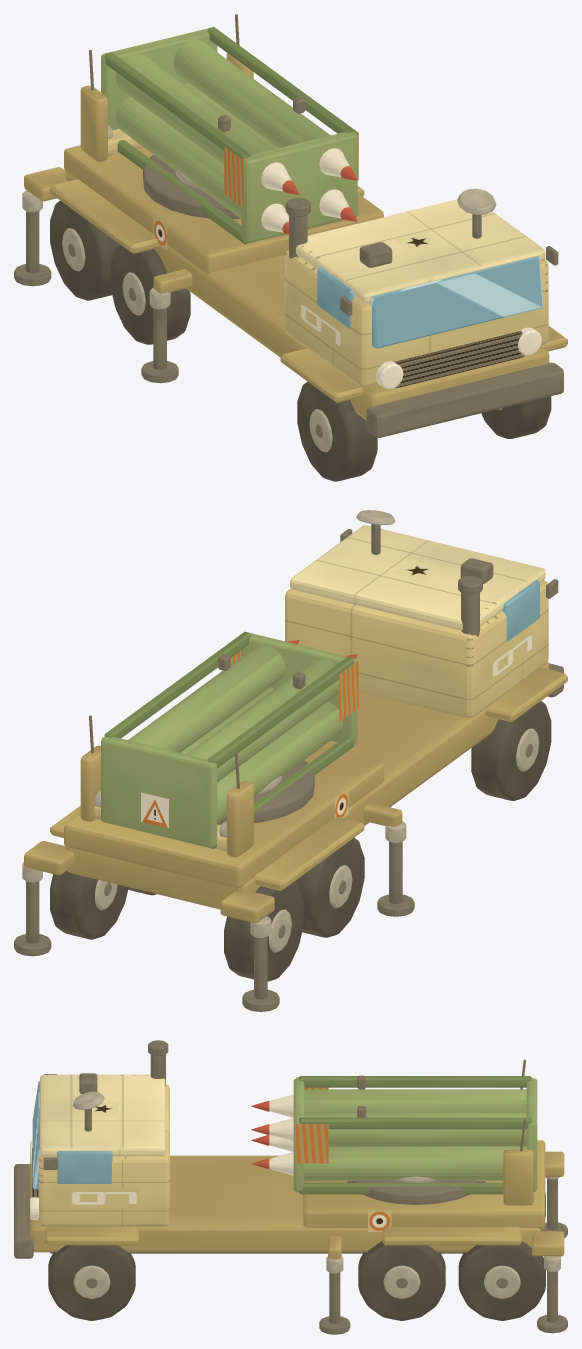
Rendered from missile_launcher.glb.
3 views of the same model, one above another, from view 1: azimuth 30°, elevation 25°; view 2: azimuth 150°, elevation 25°; view 3: azimuth 270°, elevation 25° (orthographic). The views are drawn at different scales.
Parts seen in each view (by area): view 1: MissileLauncher_Body, MissileLauncher_Launcher, Wheel_FL, MissileLauncher_Turret, Wheel_ML, Wheel_RL, Wheel_FR, Outrigger_FL, Outrigger_RL; view 2: MissileLauncher_Body, MissileLauncher_Launcher, MissileLauncher_Turret, Wheel_FL, Wheel_ML, Wheel_RL, Wheel_RR, Outrigger_FL, Outrigger_RL, Outrigger_RR; view 3: MissileLauncher_Body, MissileLauncher_Launcher, Wheel_MR, Wheel_FR, Wheel_RR, MissileLauncher_Turret, Outrigger_FR, Outrigger_RR, Outrigger_RL.
Boxes of the visible parts, x1,y1,x2,y2 form: MissileLauncher_Body: [24, 14, 567, 437]; MissileLauncher_Launcher: [101, 27, 358, 244]; Wheel_FL: [297, 381, 377, 481]; MissileLauncher_Turret: [80, 53, 253, 219]; Wheel_ML: [110, 245, 190, 344]; Wheel_RL: [50, 200, 120, 300]; Wheel_FR: [481, 396, 551, 438]; Outrigger_FL: [141, 287, 178, 383]; Outrigger_RL: [14, 190, 51, 286]; MissileLauncher_Body: [24, 510, 567, 923]; MissileLauncher_Launcher: [101, 631, 358, 848]; MissileLauncher_Turret: [80, 745, 314, 857]; Wheel_FL: [471, 701, 551, 800]; Wheel_ML: [294, 838, 364, 937]; Wheel_RL: [224, 882, 303, 981]; Wheel_RR: [50, 871, 128, 939]; Outrigger_FL: [377, 821, 414, 916]; Outrigger_RL: [242, 916, 279, 1011]; Outrigger_RR: [14, 862, 51, 956]; MissileLauncher_Body: [14, 1040, 564, 1258]; MissileLauncher_Launcher: [251, 1075, 537, 1194]; Wheel_MR: [358, 1241, 445, 1320]; Wheel_FR: [48, 1245, 135, 1320]; Wheel_RR: [458, 1241, 545, 1320]; MissileLauncher_Turret: [347, 1149, 533, 1205]; Outrigger_FR: [319, 1256, 350, 1334]; Outrigger_RR: [537, 1256, 567, 1333]; Outrigger_RL: [541, 1177, 567, 1237].
Bounding box in the file's own units: 2.87 × 2.54 × 6.18.
Materials: 1 (1 with a texture image).
